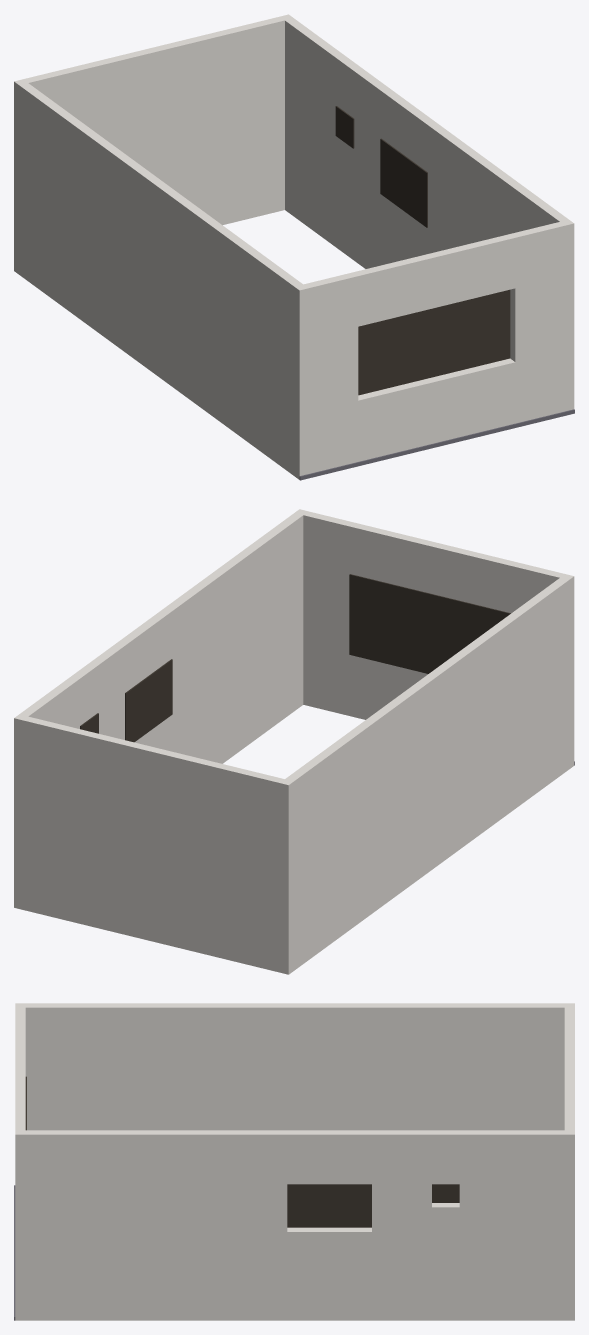
The model's file is SM_Floor_NarrowUpperWindowEndR_White_455_01.gltf.
3 views of the same model, one above another, from view 1: azimuth 30°, elevation 25°; view 2: azimuth 150°, elevation 25°; view 3: azimuth 270°, elevation 25° (orthographic). The views are drawn at different scales.
Parts seen in each view (by area): view 1: SM_Floor_NarrowUpperWindowEndR_White_455_01; view 2: SM_Floor_NarrowUpperWindowEndR_White_455_01; view 3: SM_Floor_NarrowUpperWindowEndR_White_455_01.
Part boxes in pixels (x1,y1,x2,y2): SM_Floor_NarrowUpperWindowEndR_White_455_01: [14, 14, 574, 480]; SM_Floor_NarrowUpperWindowEndR_White_455_01: [14, 509, 574, 974]; SM_Floor_NarrowUpperWindowEndR_White_455_01: [14, 1003, 574, 1320].
Size of the model in its own units: 4.55 by 3 by 8.21.
1 material, 1 textured.
